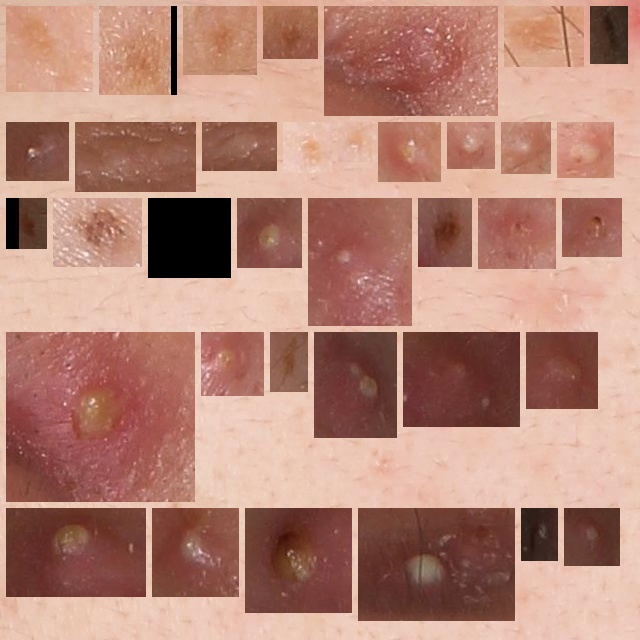hypertrophic_scar: (332, 14, 490, 108), (83, 130, 188, 184), (210, 130, 269, 163)
melasma: (14, 14, 85, 84), (107, 14, 169, 87), (156, 206, 223, 270), (191, 14, 249, 67), (512, 14, 576, 59), (426, 206, 464, 259), (271, 14, 310, 51), (291, 130, 324, 165), (278, 340, 300, 384), (346, 130, 364, 154)
nevus: (61, 206, 134, 259), (598, 14, 620, 56)
pustule: (14, 340, 187, 494), (366, 516, 507, 613), (316, 206, 404, 318), (14, 516, 138, 589), (253, 516, 344, 605), (411, 340, 512, 419), (322, 340, 389, 430), (160, 516, 231, 589), (534, 340, 590, 401), (486, 206, 548, 261), (245, 206, 294, 260), (209, 340, 256, 388), (386, 130, 433, 174), (14, 130, 61, 173), (570, 206, 614, 249), (572, 516, 612, 558), (565, 130, 606, 170), (509, 130, 543, 166), (455, 130, 487, 161), (529, 516, 550, 553)
